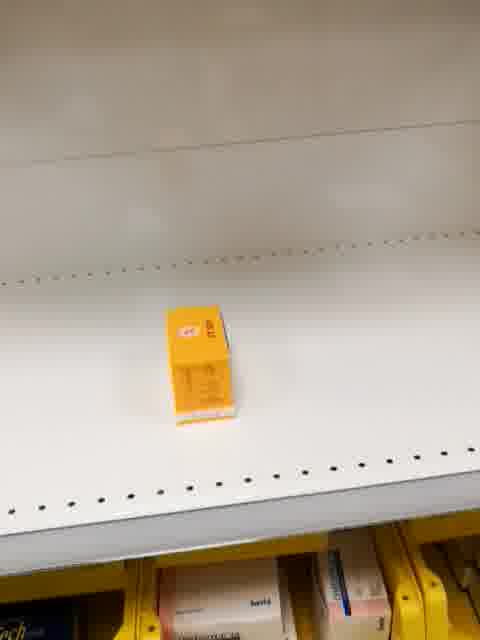jasminetea: (165, 300, 236, 425)
